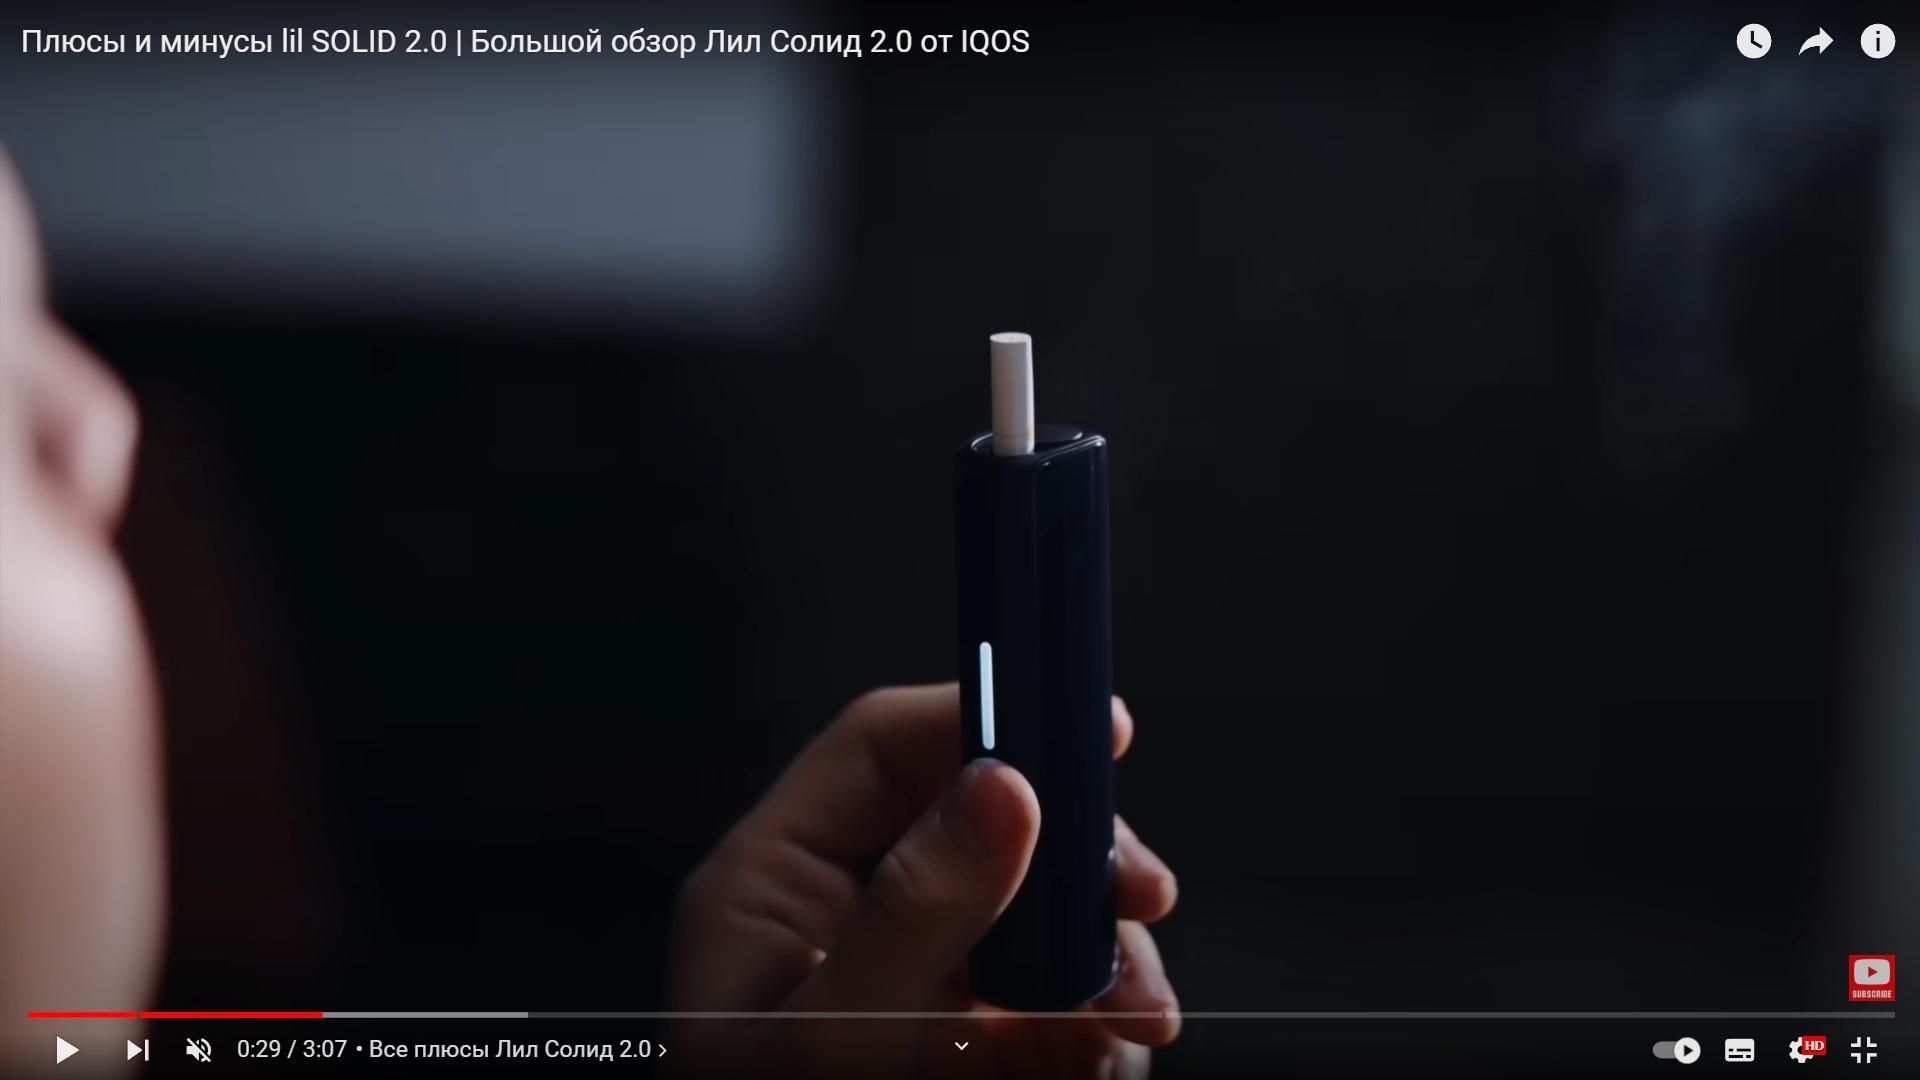iqos: (955, 334, 1116, 1010)
